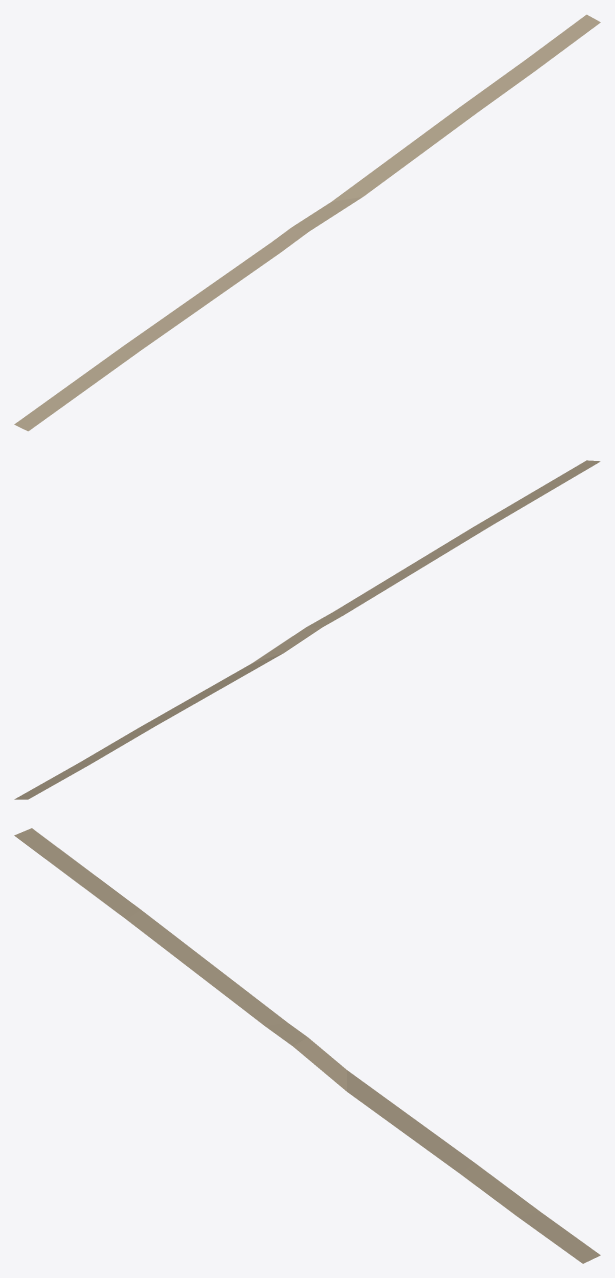
File: farm_-41_-44_track.glb
3 renders of one model, top to bottom at view 1: azimuth 30°, elevation 25°; view 2: azimuth 210°, elevation 25°; view 3: azimuth 270°, elevation 25°, orthographic. The views are drawn at different scales.
Visible parts, largest first — view 1: geometry_0; view 2: geometry_0; view 3: geometry_0.
Boxes of the visible parts, x1,y1,x2,y2 form: geometry_0: [14, 14, 600, 431]; geometry_0: [14, 460, 600, 799]; geometry_0: [14, 828, 600, 1263].
Size of the model in its own units: 182 by 8.25 by 95.27.
